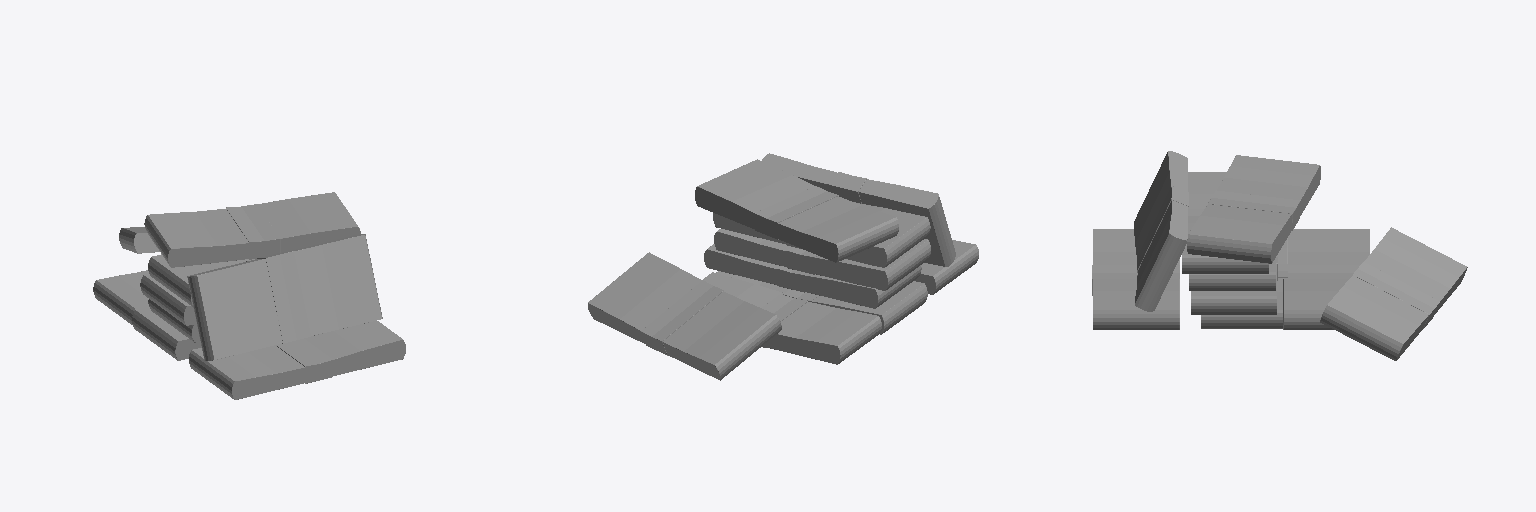
Rendered from dolares.obj.
3 views of the same model, side by side, from view 1: azimuth 30°, elevation 25°; view 2: azimuth 150°, elevation 25°; view 3: azimuth 270°, elevation 25° (orthographic).
Parts seen in each view (by area): view 1: Box01_3_2_Untitled.003, Box01_2_3_Untitled.001, Box01_1_2_Untitled.004, Box01_0_2_Untitled.002, Box01_0_Untitled.005, Box01_3_Untitled.008, Box01_2_Untitled.006, Box01_1_3_Untitled.007, Box01_1_Untitled; view 2: Box01_1_3_Untitled.007, Box01_2_3_Untitled.001, Box01_0_2_Untitled.002, Box01_3_2_Untitled.003, Box01_2_Untitled.006, Box01_1_Untitled, Box01_3_Untitled.008, Box01_0_Untitled.005, Box01_1_2_Untitled.004; view 3: Box01_1_3_Untitled.007, Box01_2_3_Untitled.001, Box01_0_2_Untitled.002, Box01_3_2_Untitled.003, Box01_1_2_Untitled.004, Box01_3_Untitled.008, Box01_1_Untitled, Box01_0_Untitled.005, Box01_2_Untitled.006.
Part boxes in pixels (x1,y1,x2,y2): Box01_3_2_Untitled.003: (187,234,382,360); Box01_2_3_Untitled.001: (144,192,360,267); Box01_1_2_Untitled.004: (189,321,405,399); Box01_0_2_Untitled.002: (93,270,148,324); Box01_0_Untitled.005: (132,307,201,360); Box01_3_Untitled.008: (148,254,254,307); Box01_2_Untitled.006: (140,274,196,325); Box01_1_3_Untitled.007: (119,227,159,253); Box01_1_Untitled: (148,299,199,342); Box01_1_3_Untitled.007: (588,252,781,380); Box01_2_3_Untitled.001: (695,159,898,262); Box01_0_2_Untitled.002: (703,272,881,364); Box01_3_2_Untitled.003: (762,153,955,266); Box01_2_Untitled.006: (714,229,930,290); Box01_1_Untitled: (704,244,921,308); Box01_3_Untitled.008: (713,202,930,267); Box01_0_Untitled.005: (716,271,927,334); Box01_1_2_Untitled.004: (914,240,978,294); Box01_1_3_Untitled.007: (1320,227,1467,360); Box01_2_3_Untitled.001: (1187,155,1320,263); Box01_0_2_Untitled.002: (1283,229,1369,329); Box01_3_2_Untitled.003: (1134,151,1188,311); Box01_1_2_Untitled.004: (1092,229,1179,329); Box01_3_Untitled.008: (1182,172,1268,273); Box01_1_Untitled: (1191,255,1277,314); Box01_0_Untitled.005: (1201,238,1287,328); Box01_2_Untitled.006: (1189,258,1275,290).
Size of the model in its own units: 1.09 by 0.4288 by 1.48.